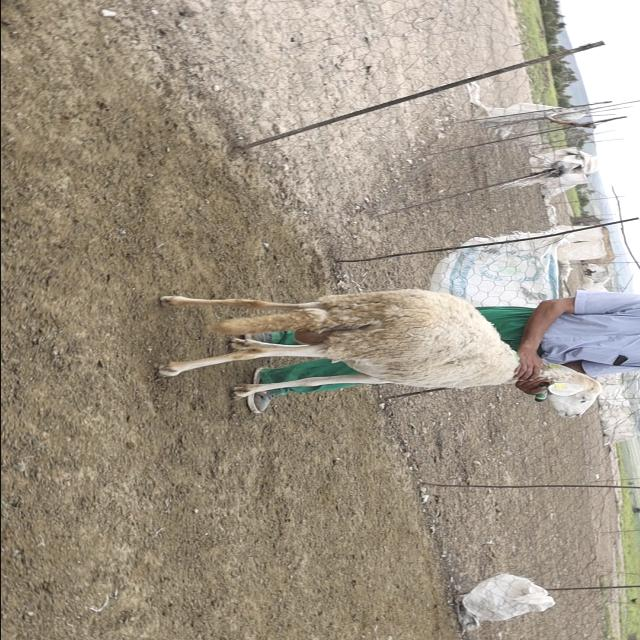Score_2: (157, 289, 519, 399)
